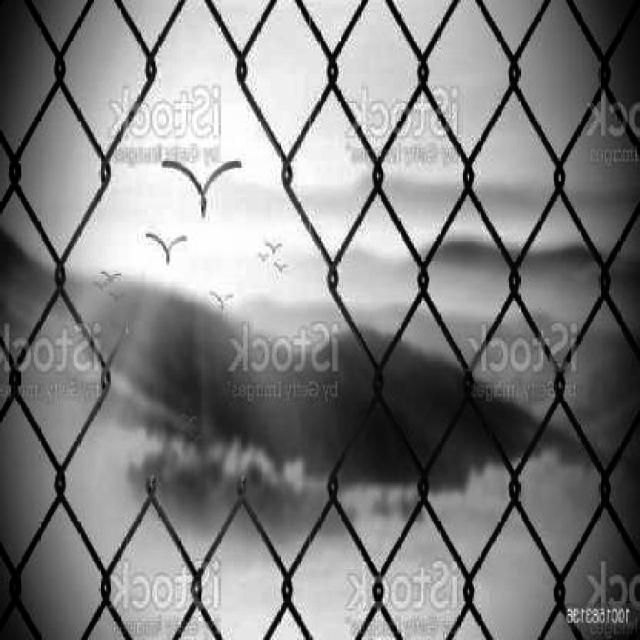anomaly-fence: (0, 70, 422, 556)
